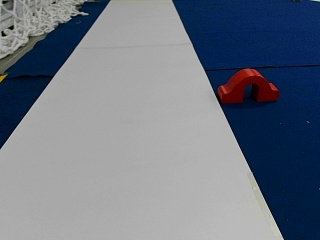bridge: (218, 69, 278, 101)
